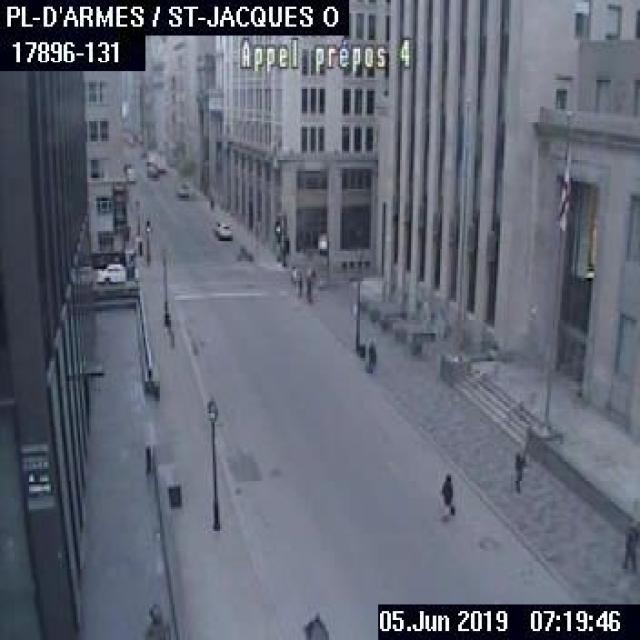pedestrian: (618, 513, 638, 567), (438, 471, 455, 522), (511, 449, 524, 495), (364, 336, 376, 371), (290, 262, 301, 294), (304, 267, 314, 302), (208, 192, 214, 212)
vehicle: (95, 262, 137, 282), (212, 218, 231, 238), (151, 152, 164, 170), (174, 180, 188, 196), (144, 161, 156, 176), (123, 168, 135, 181)
